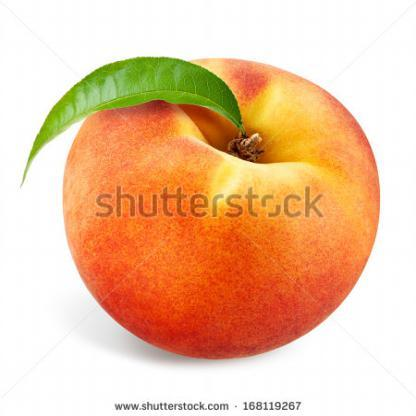Peach leaf: (14, 50, 250, 186)
